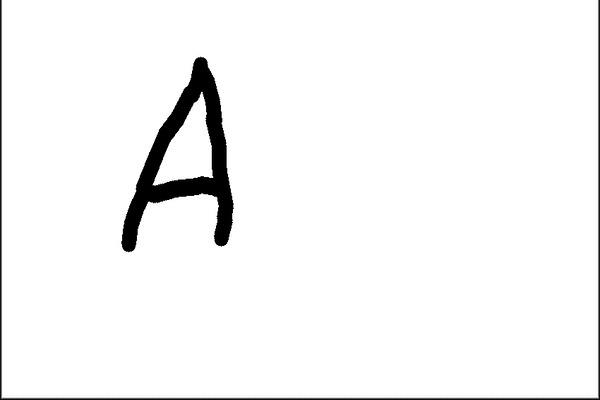A: (115, 47, 236, 259)
